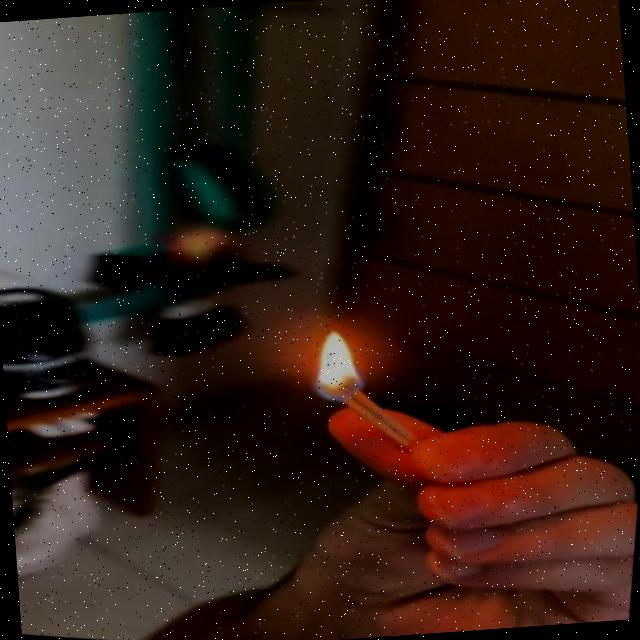fire: (301, 323, 379, 414)
